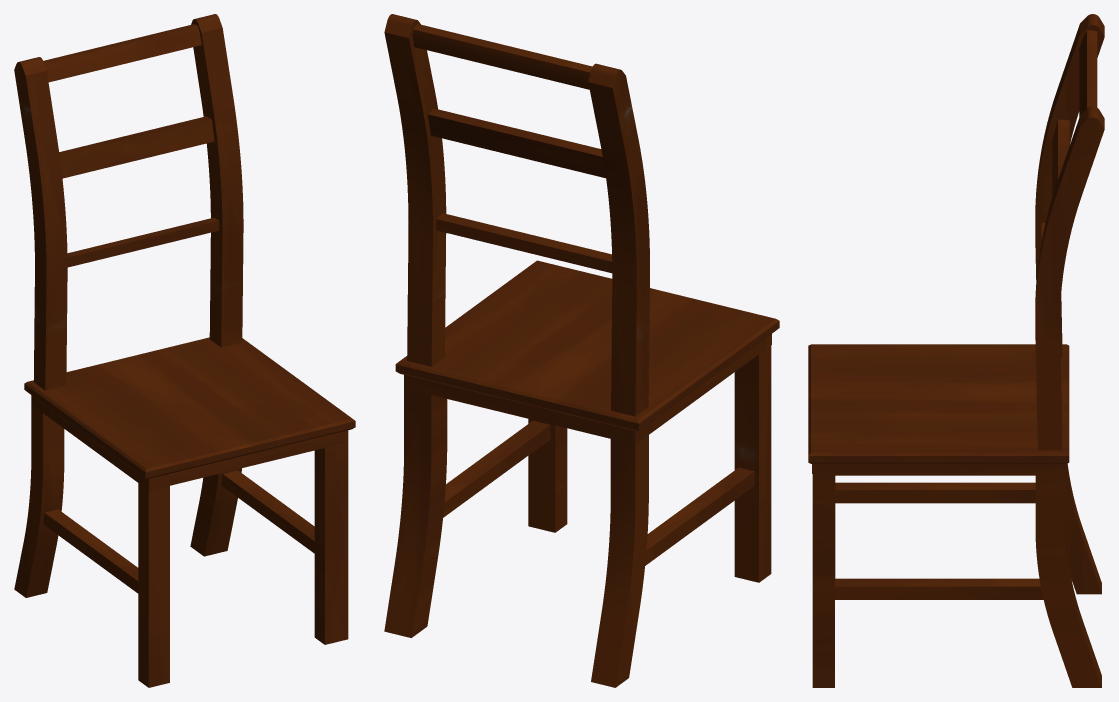
File: CadeiraObjetct.fbx
3 views of the same model, side by side, from view 1: azimuth 30°, elevation 25°; view 2: azimuth 150°, elevation 25°; view 3: azimuth 270°, elevation 25° (orthographic). The views are drawn at different scales.
Visible parts, largest first — view 1: Cadeira; view 2: Cadeira; view 3: Cadeira.
Part boxes in pixels (<box>): Cadeira: <box>14,14,355,687</box>; Cadeira: <box>384,14,779,687</box>; Cadeira: <box>808,14,1104,687</box>.
Bounding box in the file's own units: 1 × 2.41 × 1.13.
1 material, 1 textured.
